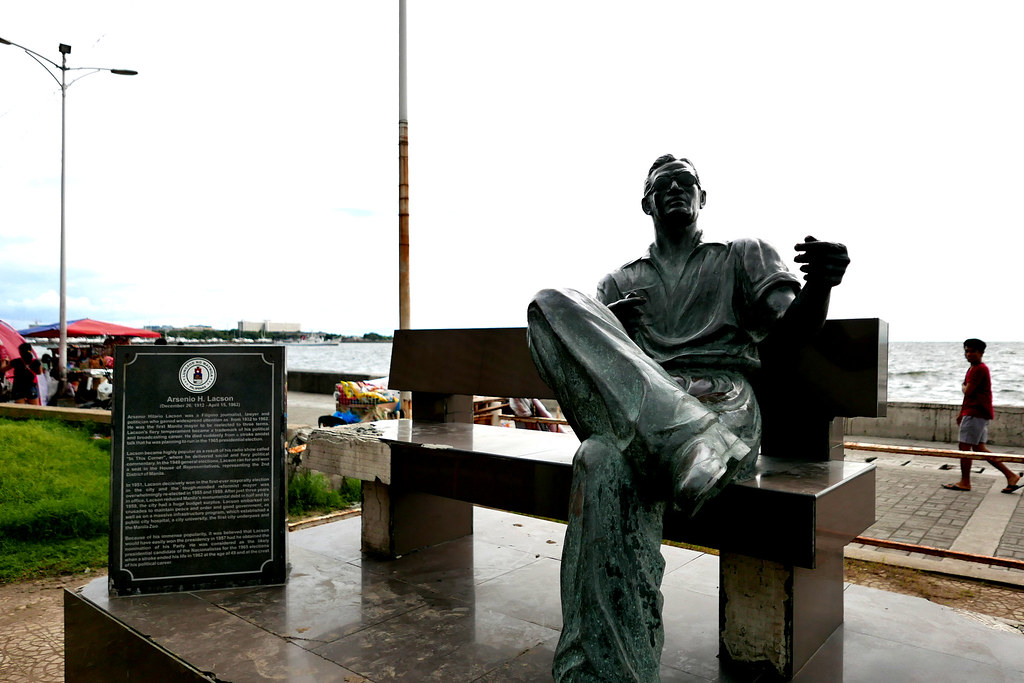person: (937, 334, 1023, 497)
person-like: (520, 149, 854, 683)
